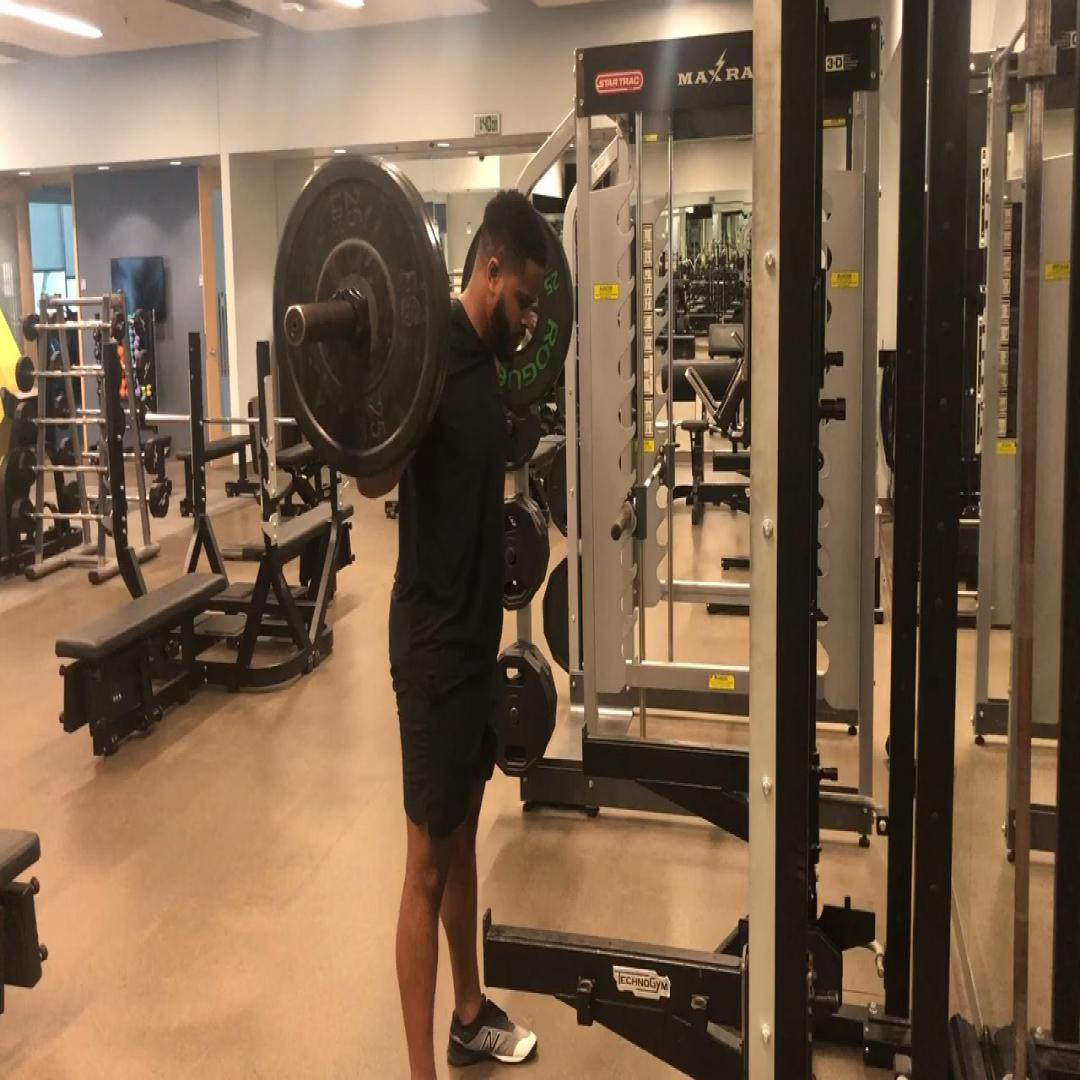Bar: (284, 305, 306, 345)
Barbell: (272, 155, 437, 478)
